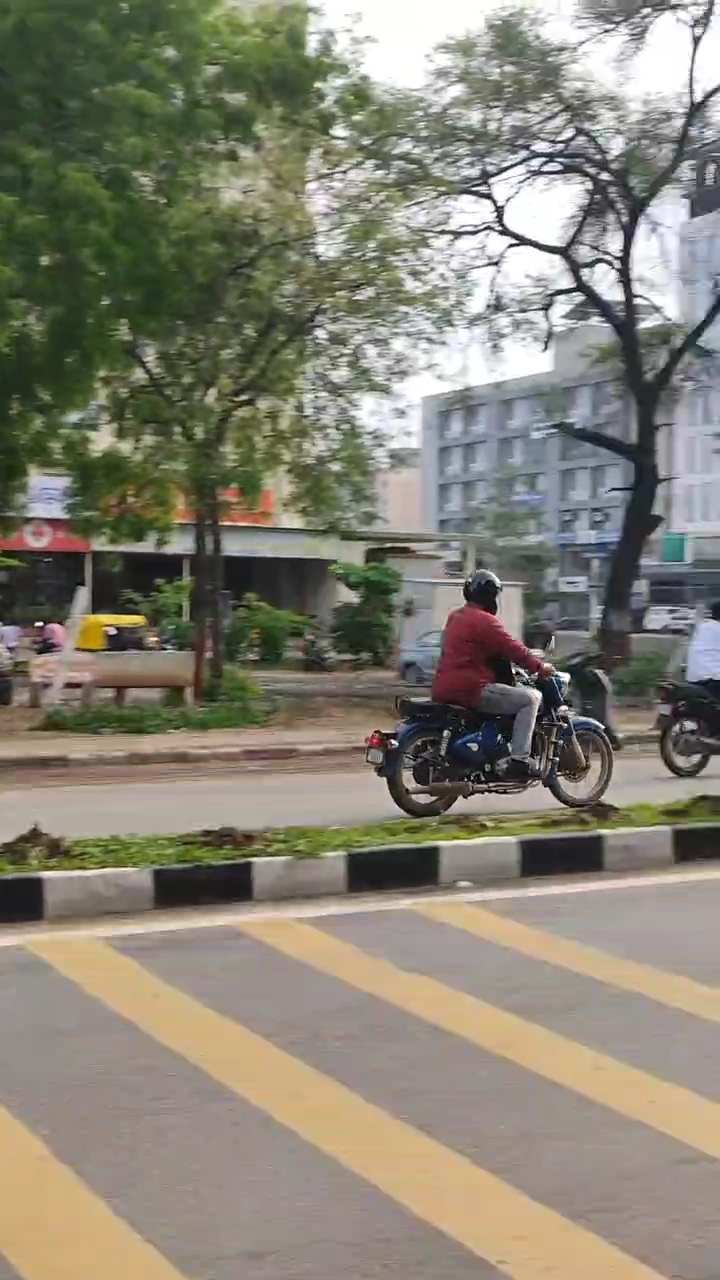BikeWithRider: (351, 562, 625, 826)
Helmet: (454, 564, 509, 619)
